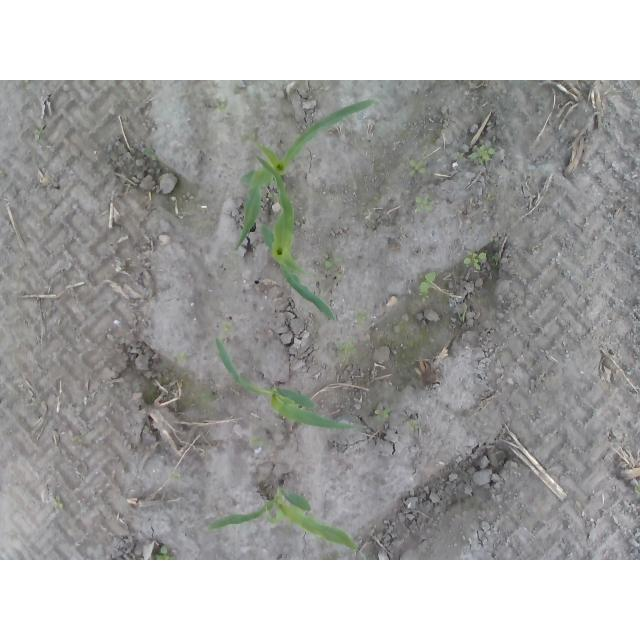Maize: (236, 96, 379, 256), (215, 333, 366, 436), (257, 154, 340, 324), (205, 487, 361, 550)
Weeds: (417, 271, 435, 303), (464, 249, 489, 271), (468, 143, 497, 161), (407, 159, 430, 178), (414, 195, 434, 214), (155, 544, 178, 560), (249, 437, 274, 450), (375, 407, 394, 422), (340, 343, 357, 356), (53, 496, 63, 513), (181, 191, 195, 203), (175, 351, 186, 365), (322, 259, 336, 269), (143, 147, 155, 158), (408, 420, 418, 433), (168, 471, 182, 480), (34, 129, 42, 143), (215, 103, 226, 113), (455, 150, 466, 160), (358, 312, 369, 322), (222, 322, 231, 333)
